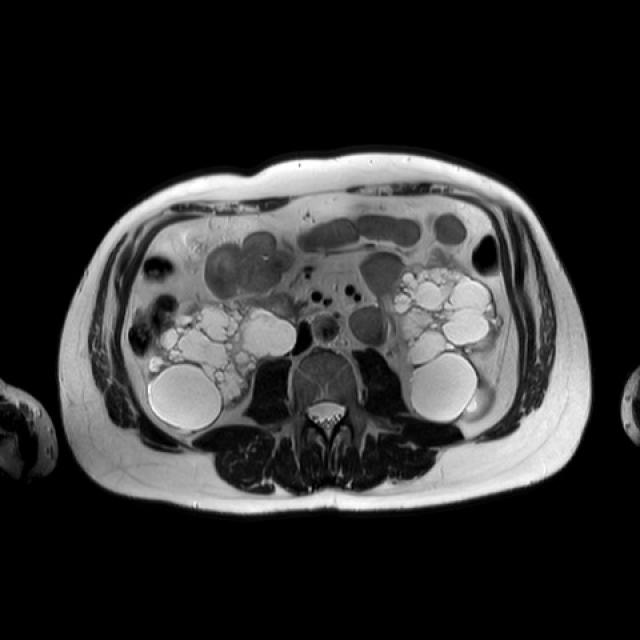sag: (146, 298, 297, 434)
sol: (395, 264, 505, 424)
